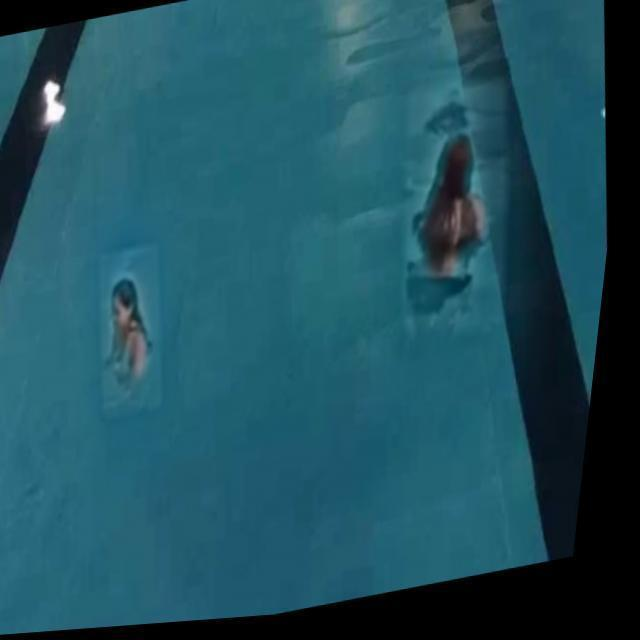swimming: (403, 111, 508, 323), (77, 252, 179, 410)
